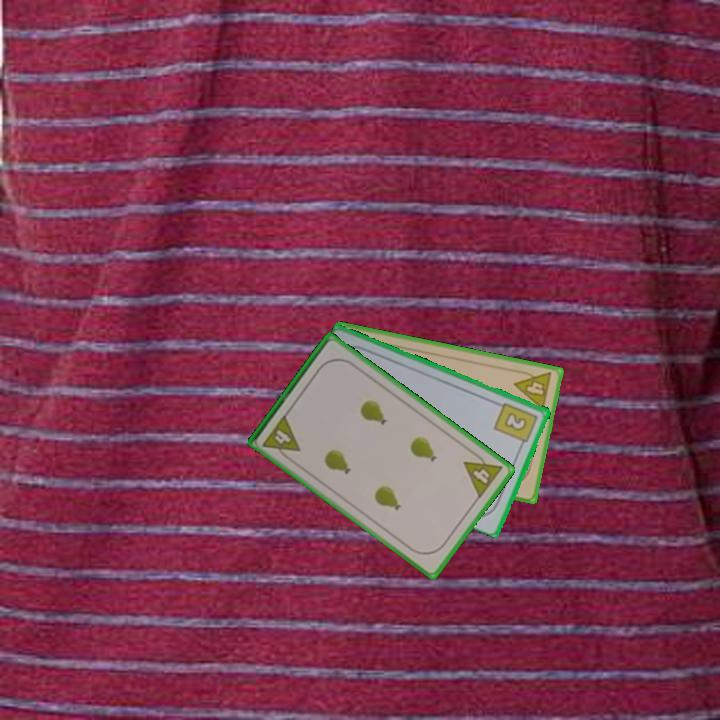2b: (491, 399, 541, 450)
4p: (460, 447, 506, 501), (259, 411, 303, 464), (511, 366, 555, 413)
